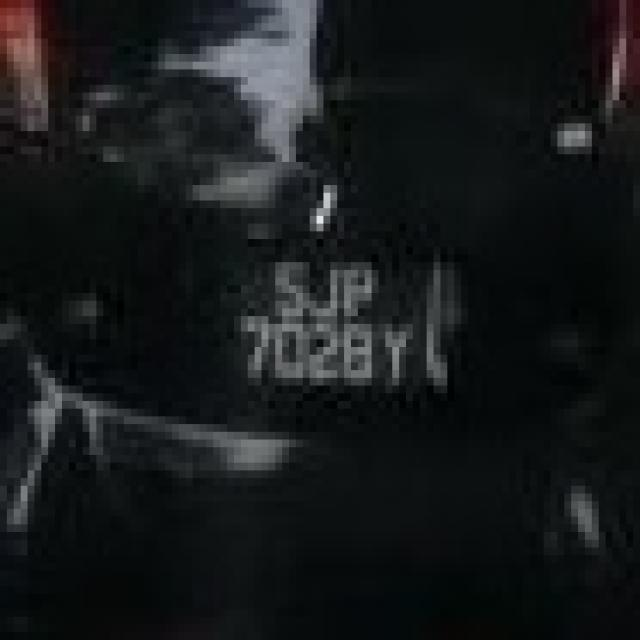0: (275, 318, 308, 388)
2: (308, 321, 342, 389)
7: (238, 316, 274, 386)
8: (343, 324, 377, 386)
J: (307, 262, 339, 321)
P: (341, 263, 378, 320)
S: (268, 260, 304, 320)
Y: (380, 320, 416, 388)
